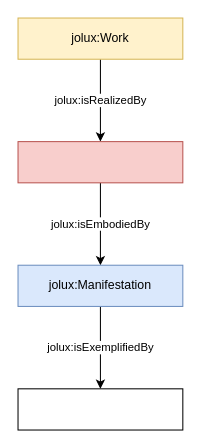
Image size: 201x448. Some labels were removed from this diagram. The centre of each missing label's shape, as x and y in pixels:
"File URL" goes at point 100,409.
"jolux:Expression" goes at point 100,162.
